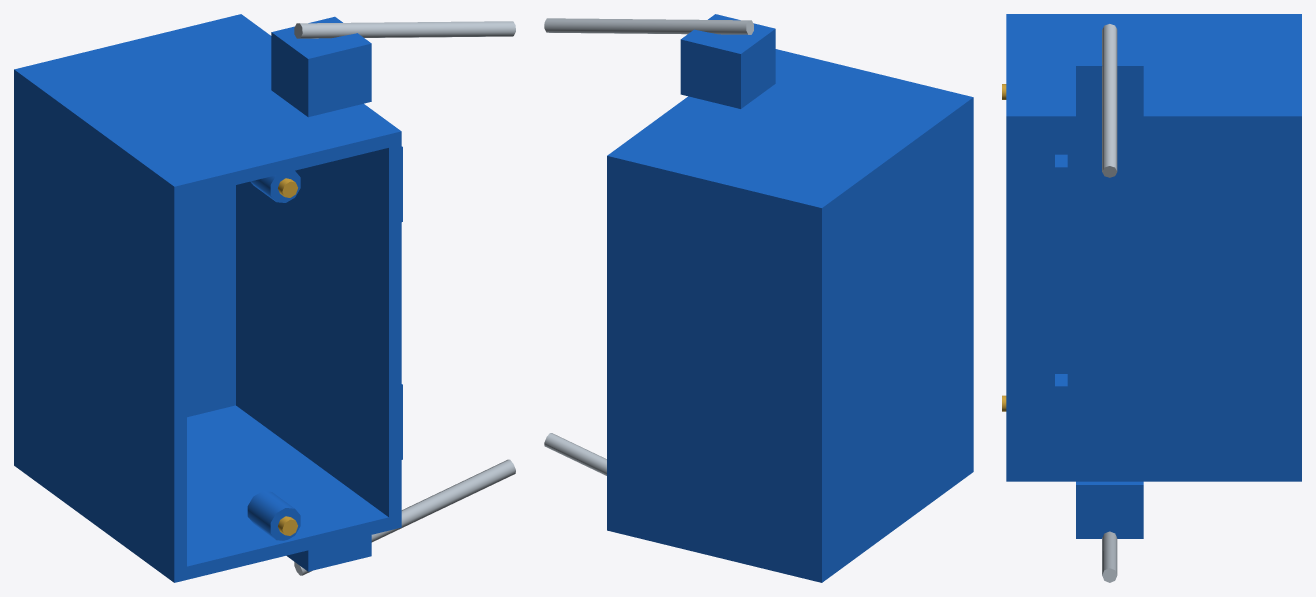
3 renders of one model, left to right at view 1: azimuth 30°, elevation 25°; view 2: azimuth 150°, elevation 25°; view 3: azimuth 270°, elevation 25°, orthographic. The views are drawn at different scales.
Visible parts, largest first — view 1: cad-box-single-gang-standard; view 2: cad-box-single-gang-standard; view 3: cad-box-single-gang-standard.
Boxes of the visible parts, bbox=[...] form: cad-box-single-gang-standard: bbox=[14, 14, 515, 582]; cad-box-single-gang-standard: bbox=[544, 14, 973, 582]; cad-box-single-gang-standard: bbox=[1002, 14, 1301, 582].
Bounding box in the file's own units: 0.0994 × 0.1328 × 0.0709.
